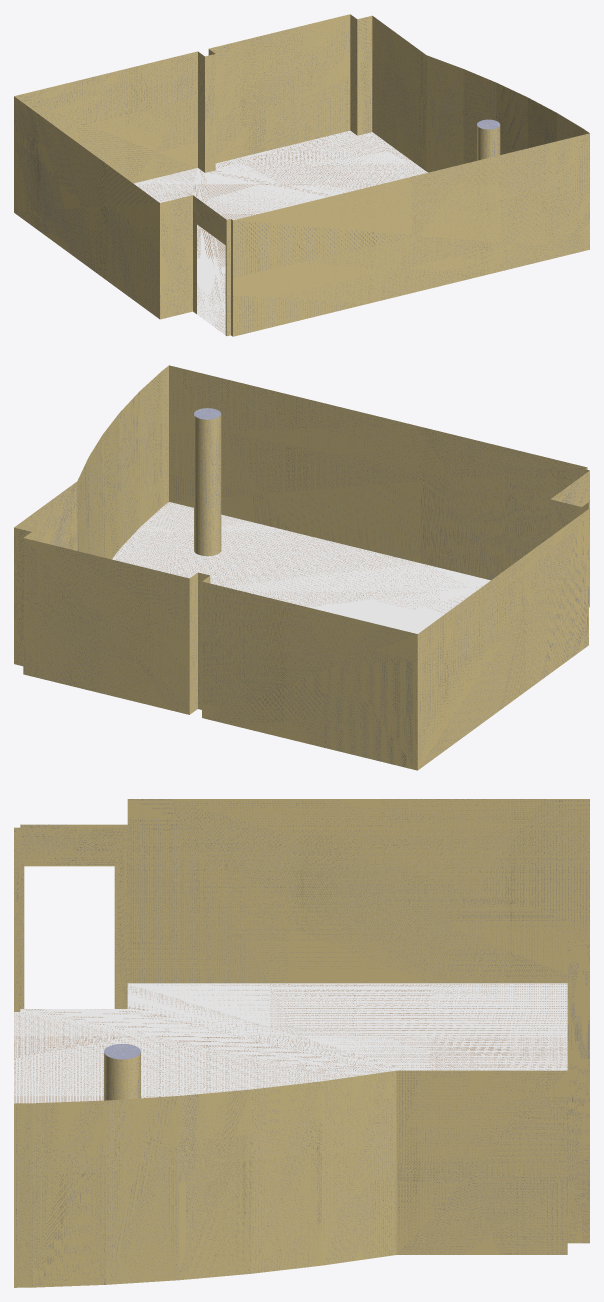
The model's file is LAB012.obj.
3 views of the same model, one above another, from view 1: azimuth 30°, elevation 25°; view 2: azimuth 150°, elevation 25°; view 3: azimuth 270°, elevation 25° (orthographic). The views are drawn at different scales.
Parts seen in each view (by area): view 1: Mesh4 LAB012 Model, Mesh1 Group1 LAB012 Model; view 2: Mesh4 LAB012 Model, Mesh1 Group1 LAB012 Model; view 3: Mesh4 LAB012 Model, Mesh1 Group1 LAB012 Model.
Boxes of the visible parts, <box> form: Mesh4 LAB012 Model: <box>14,14,589,336</box>; Mesh1 Group1 LAB012 Model: <box>477,119,500,160</box>; Mesh4 LAB012 Model: <box>14,365,589,770</box>; Mesh1 Group1 LAB012 Model: <box>194,408,221,556</box>; Mesh4 LAB012 Model: <box>14,799,589,1287</box>; Mesh1 Group1 LAB012 Model: <box>104,1044,140,1100</box>.
Bounding box in the file's own units: 10.53 × 2.98 × 8.42.
Materials: 5 (2 with a texture image).
